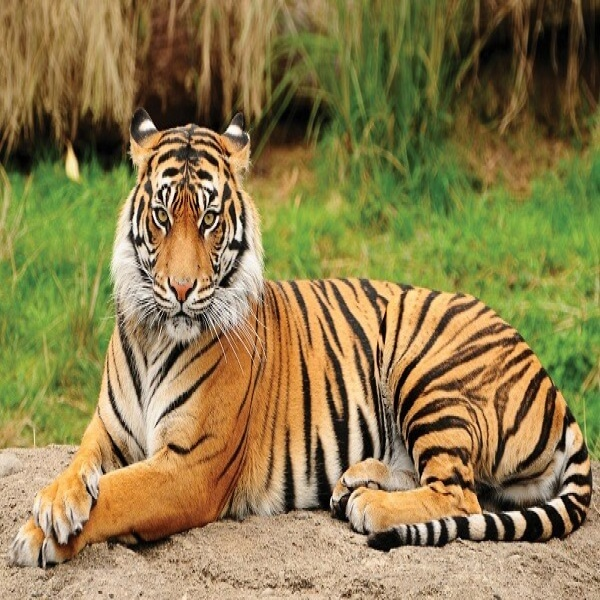Tiger: (7, 101, 596, 570)
